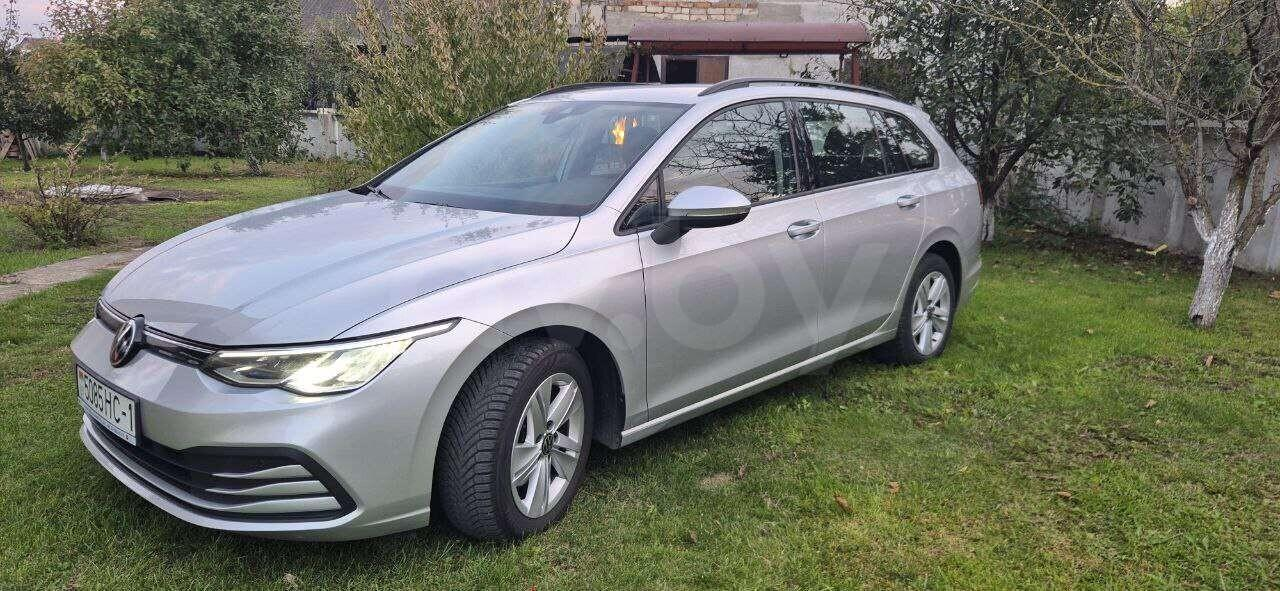Golf_2019: (64, 81, 983, 561)
